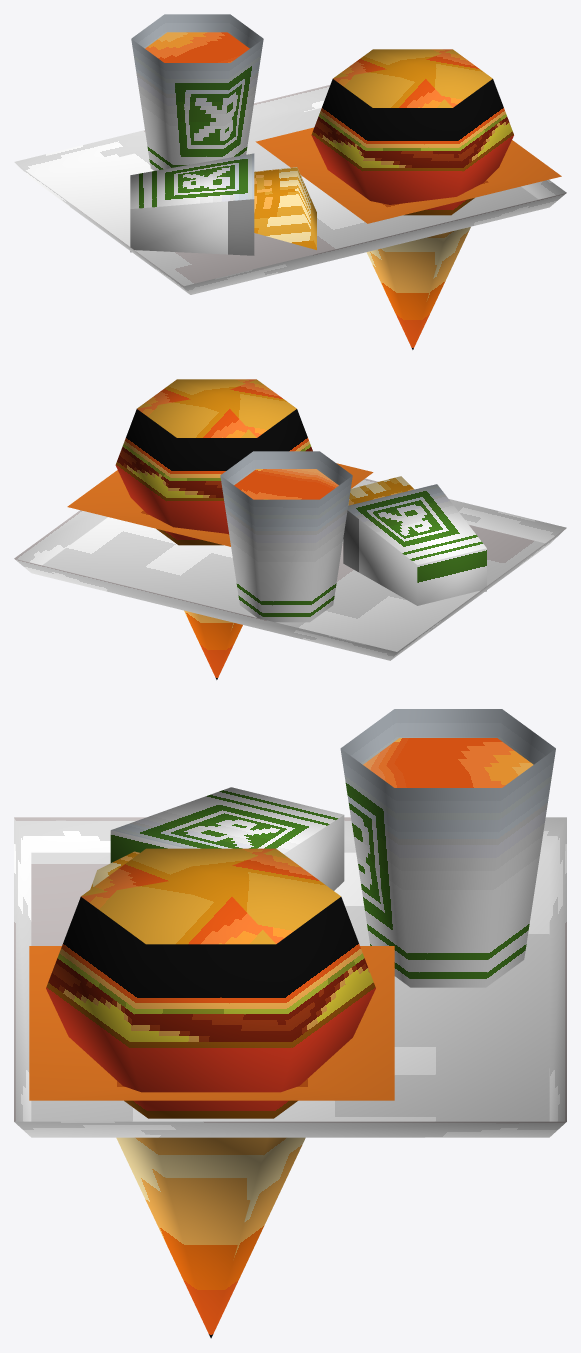
The picture shows the model from 3 angles, top to bottom: view 1: azimuth 30°, elevation 25°; view 2: azimuth 150°, elevation 25°; view 3: azimuth 270°, elevation 25°; orthographic projection. The views are drawn at different scales.
Visible parts, largest first — view 1: 3387imig18_09; view 2: 3387imig18_09; view 3: 3387imig18_09.
Part boxes in pixels (<box>): 3387imig18_09: <box>14,14,566,349</box>; 3387imig18_09: <box>14,379,566,679</box>; 3387imig18_09: <box>14,709,566,1338</box>.
Size of the model in its own units: 0.8545 by 0.625 by 0.6562.
4 materials, 4 textured.
